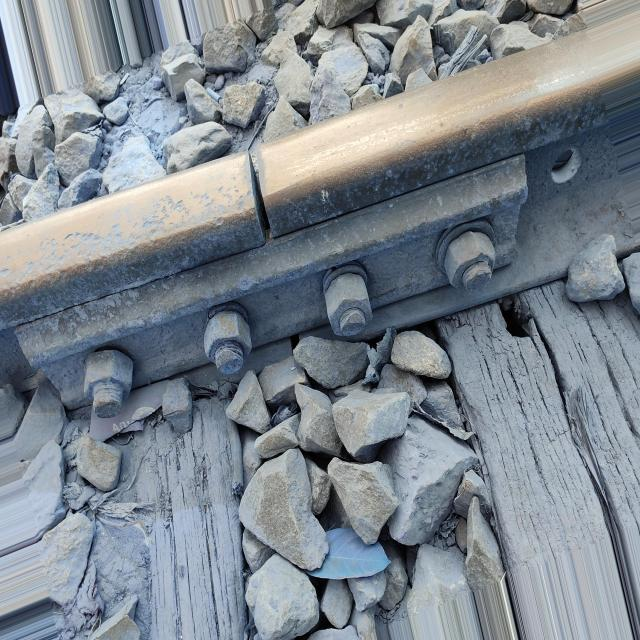Good Joint: (16, 157, 527, 440)
